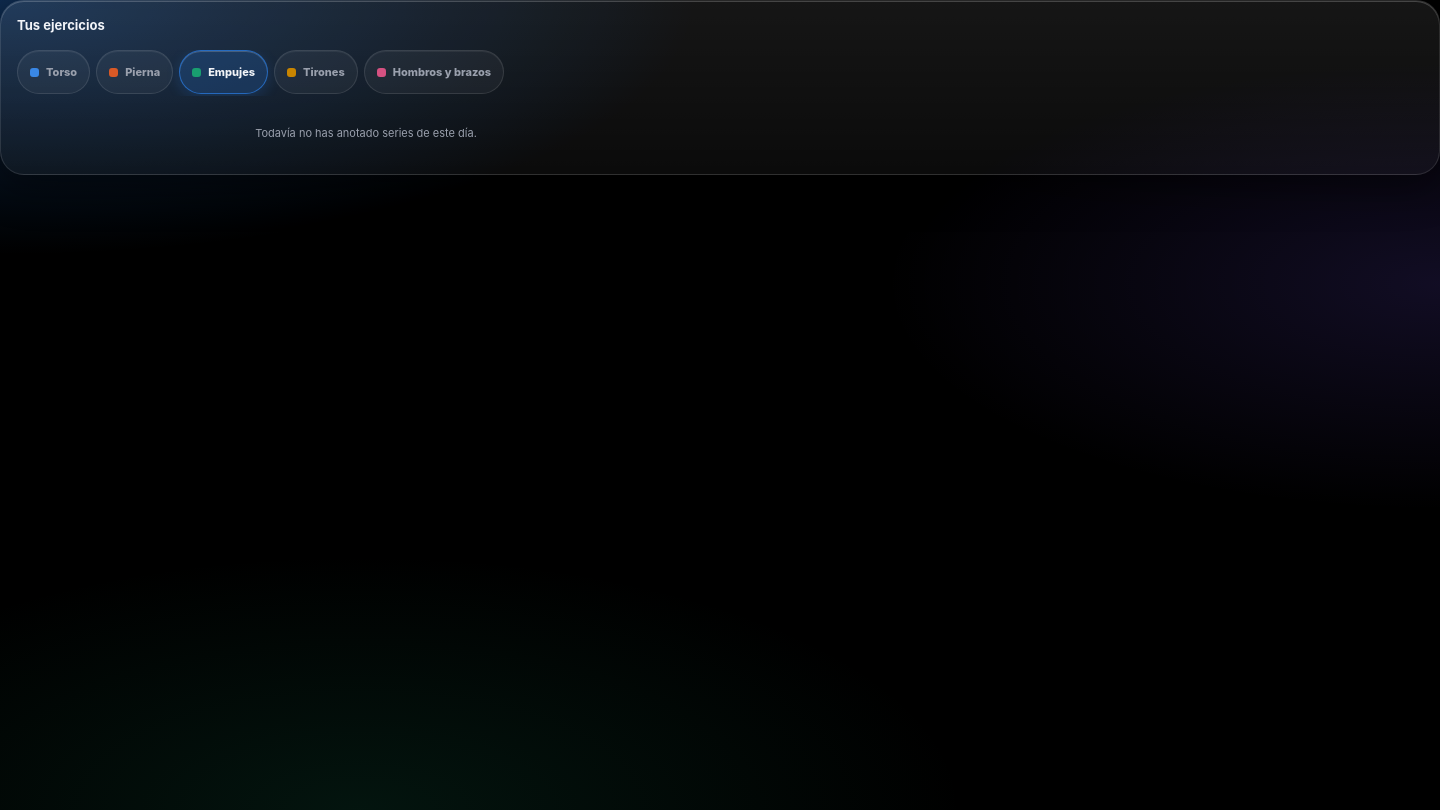
Test: Progreso · Tus ejercicios › los ejercicios sin carga muestran sus repeticiones, no una fuerza vacía
Click the tab "Torso".
click(54, 72)  # box x1=17 y1=50 x2=90 y2=94
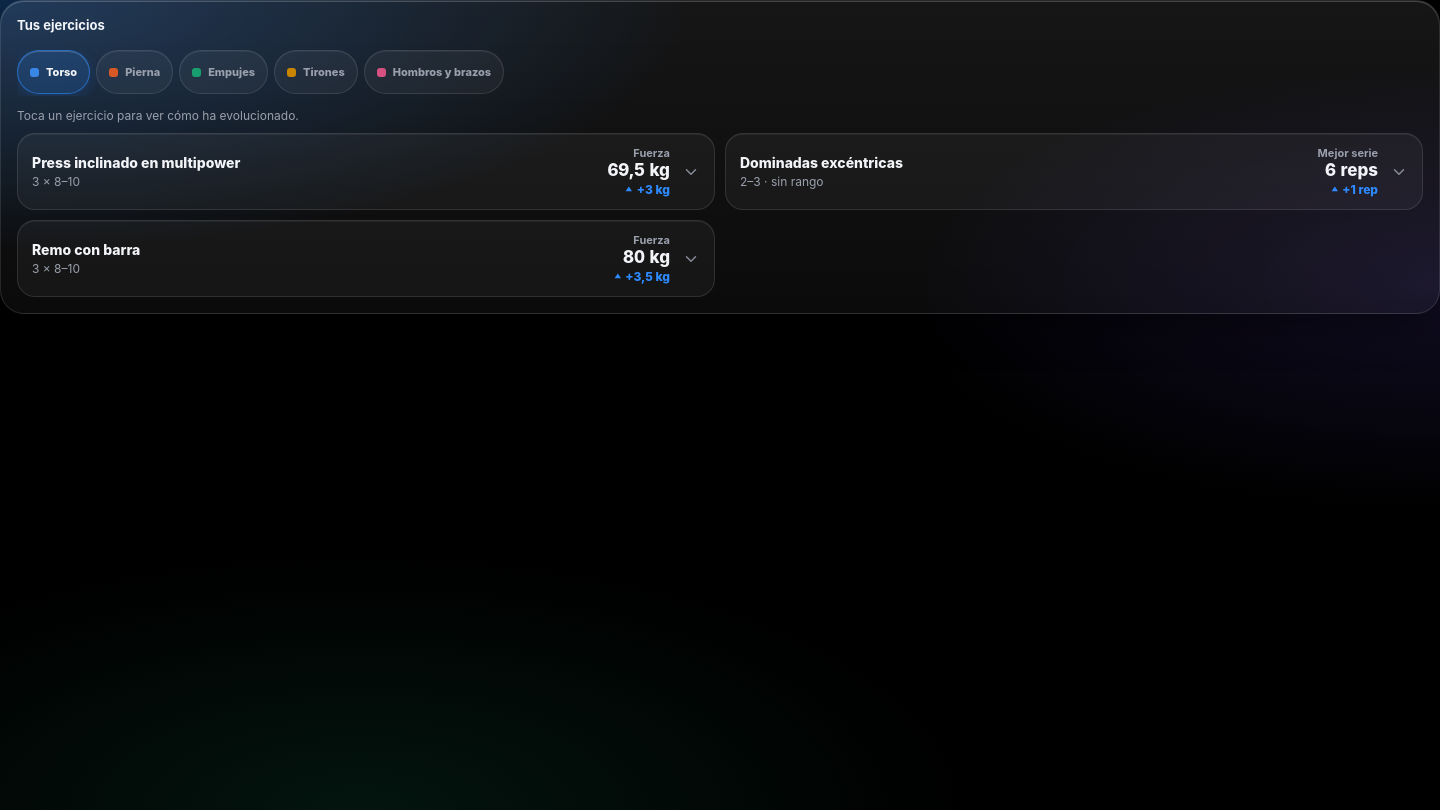
Expected: the button "Dominadas excéntricas" shows "6 reps"
Expected: the button "Dominadas excéntricas" shows "+1"
Click the button "Dominadas excéntricas".
click(821, 162)  # box x1=726 y1=134 x2=1422 y2=209
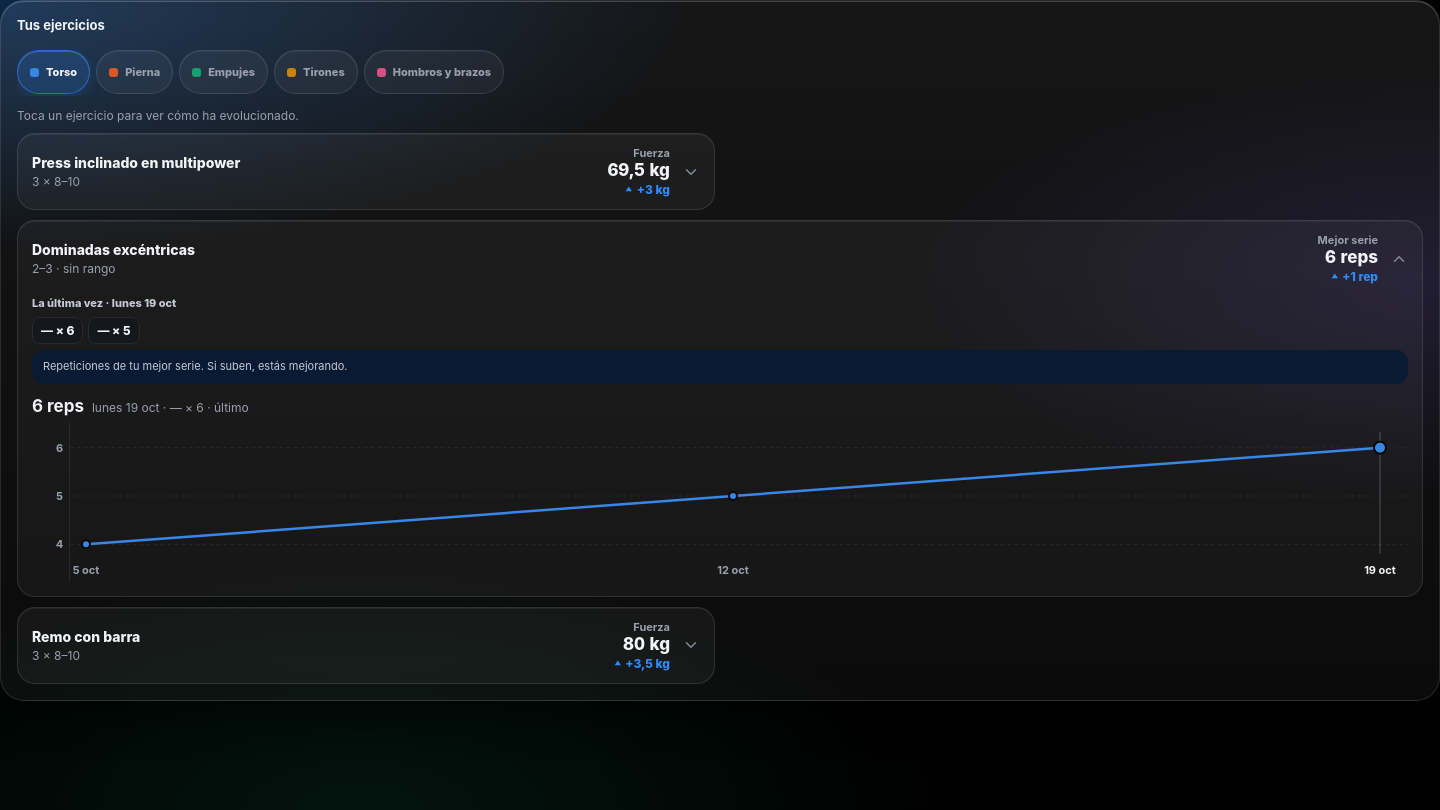
Expected: the icon named "Repeticiones de Dominadas excéntricas por fecha" is shown, x1=70 y1=422 x2=1408 y2=582
